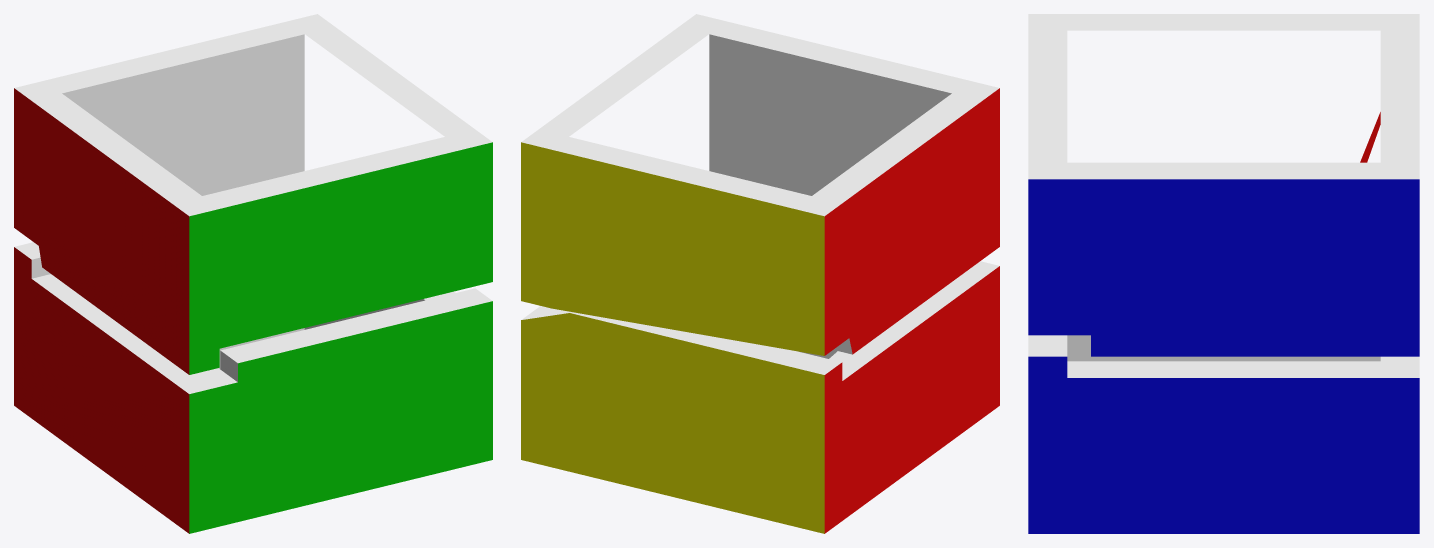
The model's file is caixa.glb.
3 views of the same model, side by side, from view 1: azimuth 30°, elevation 25°; view 2: azimuth 150°, elevation 25°; view 3: azimuth 270°, elevation 25° (orthographic). The views are drawn at different scales.
Parts seen in each view (by area): view 1: Mesh2 Model, Mesh1 Model; view 2: Mesh2 Model, Mesh1 Model; view 3: Mesh2 Model, Mesh1 Model.
Part boxes in pixels (x1,y1,x2,y2): Mesh2 Model: (14,14,492,374); Mesh1 Model: (14,242,492,533); Mesh2 Model: (521,14,999,355); Mesh1 Model: (521,261,999,533); Mesh2 Model: (1028,14,1419,356); Mesh1 Model: (1028,335,1419,533).
Bounding box in the file's own units: 0.5 × 0.5 × 0.5.
